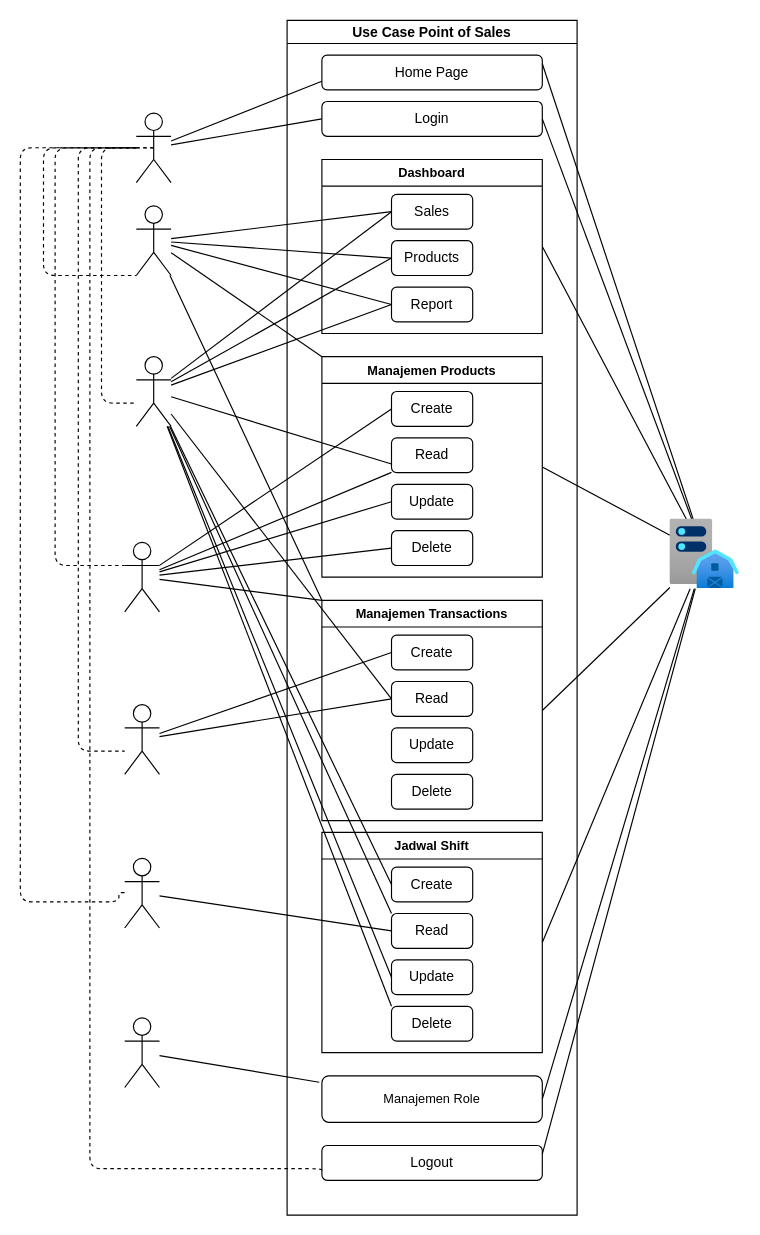
The diagram is 760 pixels wide and 1235 high, and some of its shapes have lost their labels. Here are the shapes that lost their labels. From the top down, the centre of each, then its label:
At (x=153, y=147): "Guest".
At (x=153, y=240): "Owner".
At (x=153, y=391): "Manager".
At (x=704, y=553): "System".
At (x=142, y=576): "Admin".
At (x=142, y=739): "Kasir".
At (x=142, y=892): "Karyawan".
At (x=142, y=1052): "super admin ( root )".
